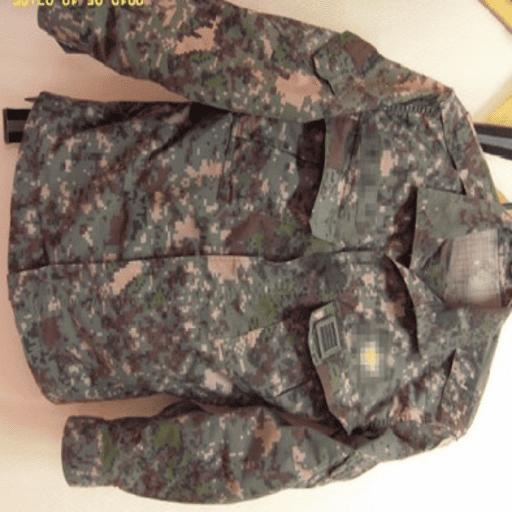korea army: (5, 0, 510, 504)
